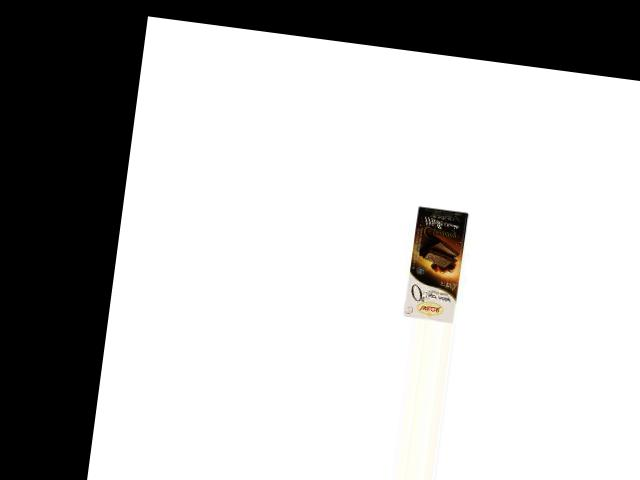chocolate: (400, 205, 470, 323)
